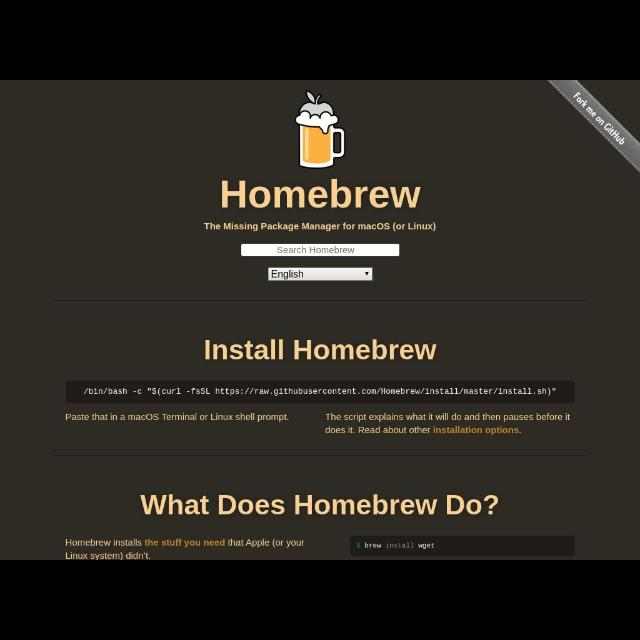icon: (364, 270, 370, 276)
image: (294, 91, 346, 167)
input: (241, 243, 399, 257)
spinner: (268, 268, 372, 280)
text: (139, 493, 499, 519), (84, 384, 556, 400), (222, 180, 422, 216), (203, 338, 437, 364), (324, 412, 572, 436), (63, 537, 304, 559), (203, 220, 437, 234), (66, 412, 290, 422), (356, 540, 436, 552), (276, 246, 356, 256), (272, 268, 304, 280)
